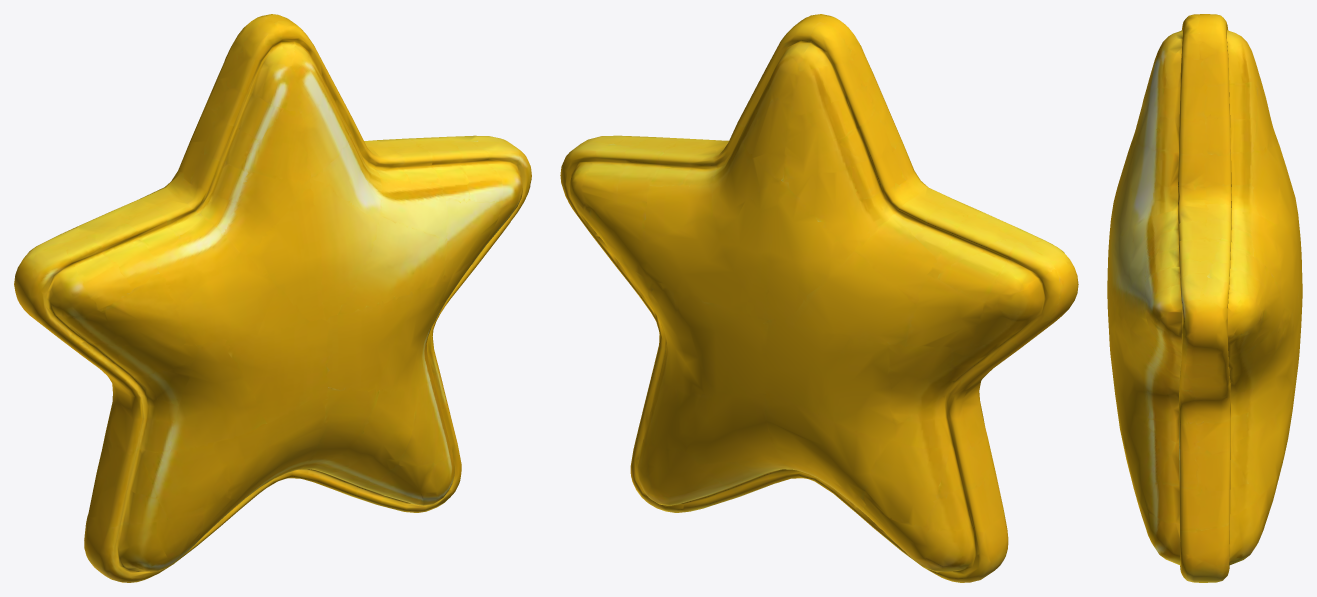
File: golden_star.glb
3 renders of one model, left to right at view 1: azimuth 30°, elevation 25°; view 2: azimuth 150°, elevation 25°; view 3: azimuth 270°, elevation 25°, orthographic. The views are drawn at different scales.
Size of the model in its own units: 1.9 by 1.88 by 0.6727.
Materials: 1 (1 with a texture image).
